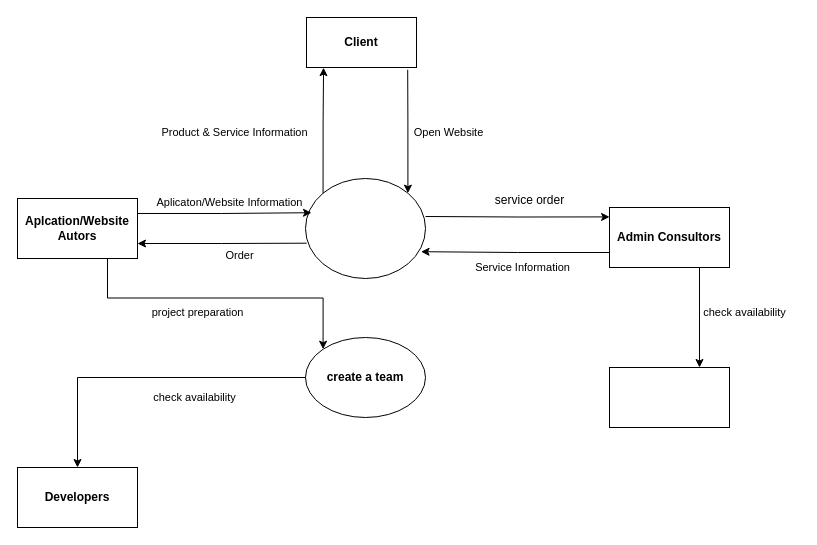
Some shapes in this 817 by 545 pixel diagram are drawn without their labels. The centre of each missing label's shape, as x and y in pixels:
"Consulltors" belongs at point 669,397.
"Klinik-Digital Website" belongs at point 365,228.
